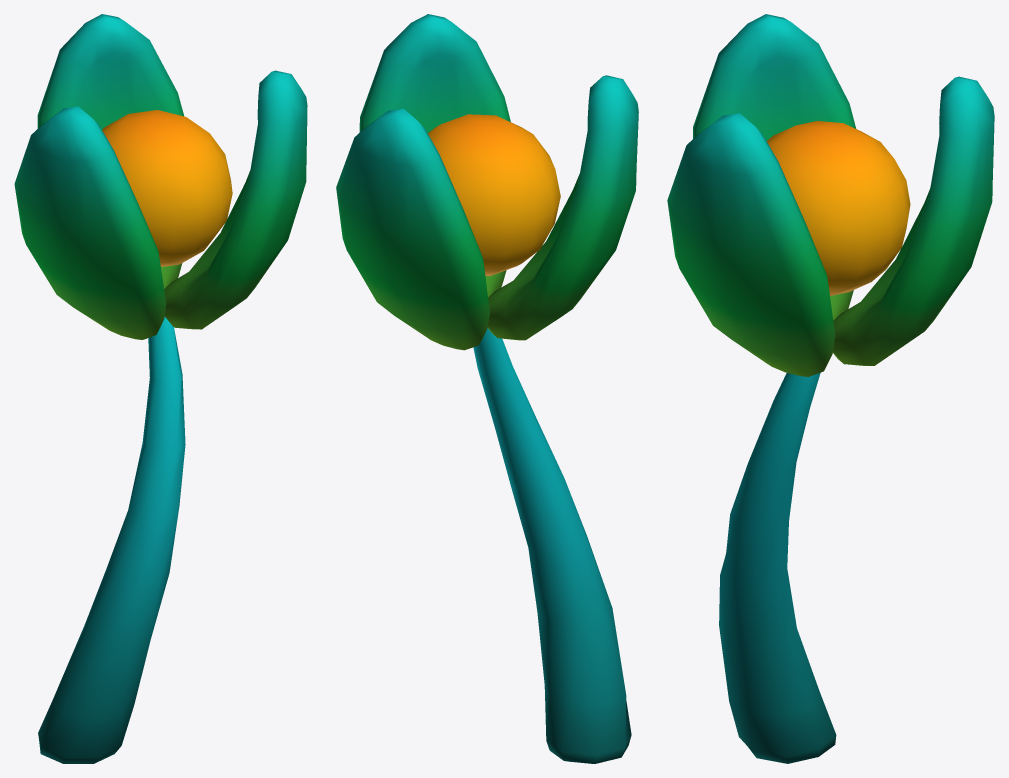
Rendered from Сapsule_Contents_014.001.fbx.
3 renders of one model, left to right at view 1: azimuth 30°, elevation 25°; view 2: azimuth 150°, elevation 25°; view 3: azimuth 270°, elevation 25°, orthographic. The views are drawn at different scales.
Visible parts, largest first — view 1: Сapsule_Contents_014.001; view 2: Сapsule_Contents_014.001; view 3: Сapsule_Contents_014.001.
Boxes of the visible parts, left/top/right/bottom form: Сapsule_Contents_014.001: left=14, top=14, right=307, bottom=763; Сapsule_Contents_014.001: left=336, top=14, right=638, bottom=763; Сapsule_Contents_014.001: left=667, top=14, right=994, bottom=763.
Bounding box in the file's own units: 18.34 × 17.7 × 43.55.
